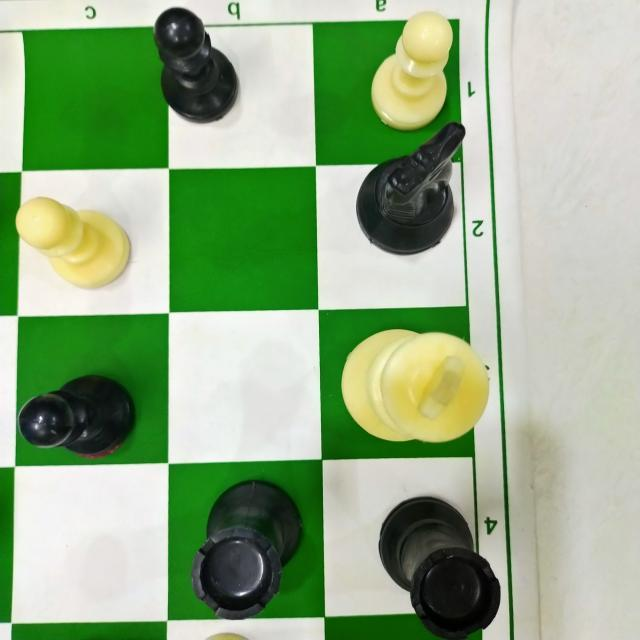black-knight: (345, 110, 482, 263)
black-pawn: (140, 2, 250, 131), (15, 360, 144, 460)
black-rook: (362, 476, 505, 636), (190, 468, 312, 626)
white-king: (334, 314, 508, 454)
white-pawn: (7, 176, 147, 298), (362, 3, 460, 129)
